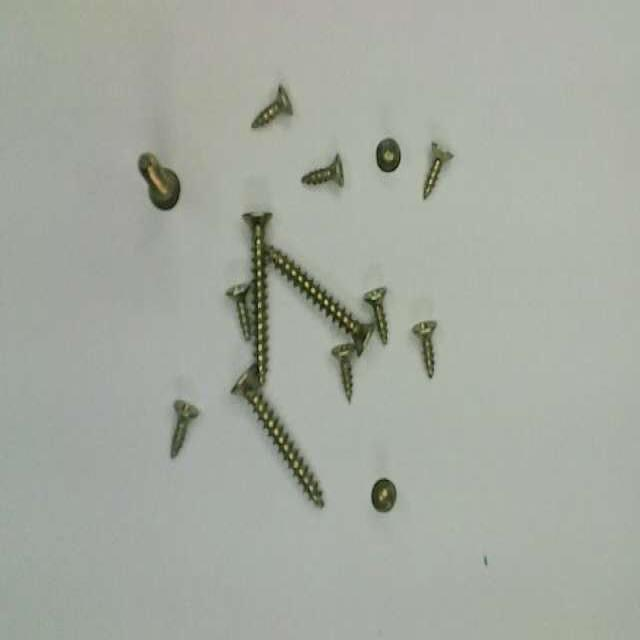Parafuso: (232, 364, 323, 507), (267, 245, 373, 353), (242, 213, 271, 385), (138, 153, 180, 208), (252, 84, 292, 128), (423, 143, 453, 197), (171, 400, 199, 457), (363, 287, 387, 343), (412, 321, 436, 376), (227, 283, 250, 340), (301, 153, 343, 184), (332, 343, 354, 401), (376, 137, 400, 171), (372, 479, 396, 511)
